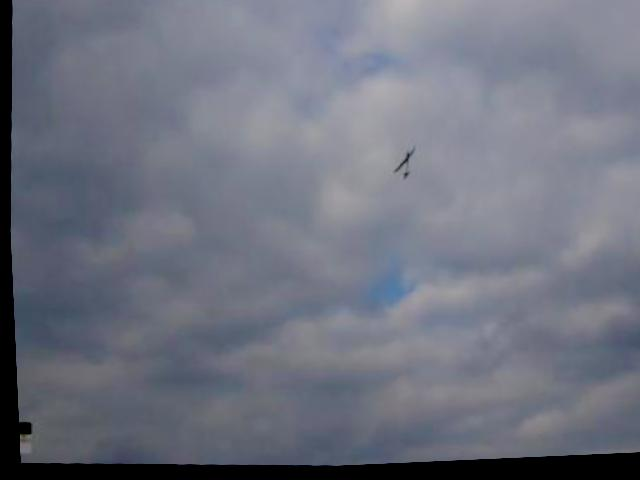uav: (384, 140, 422, 196)
